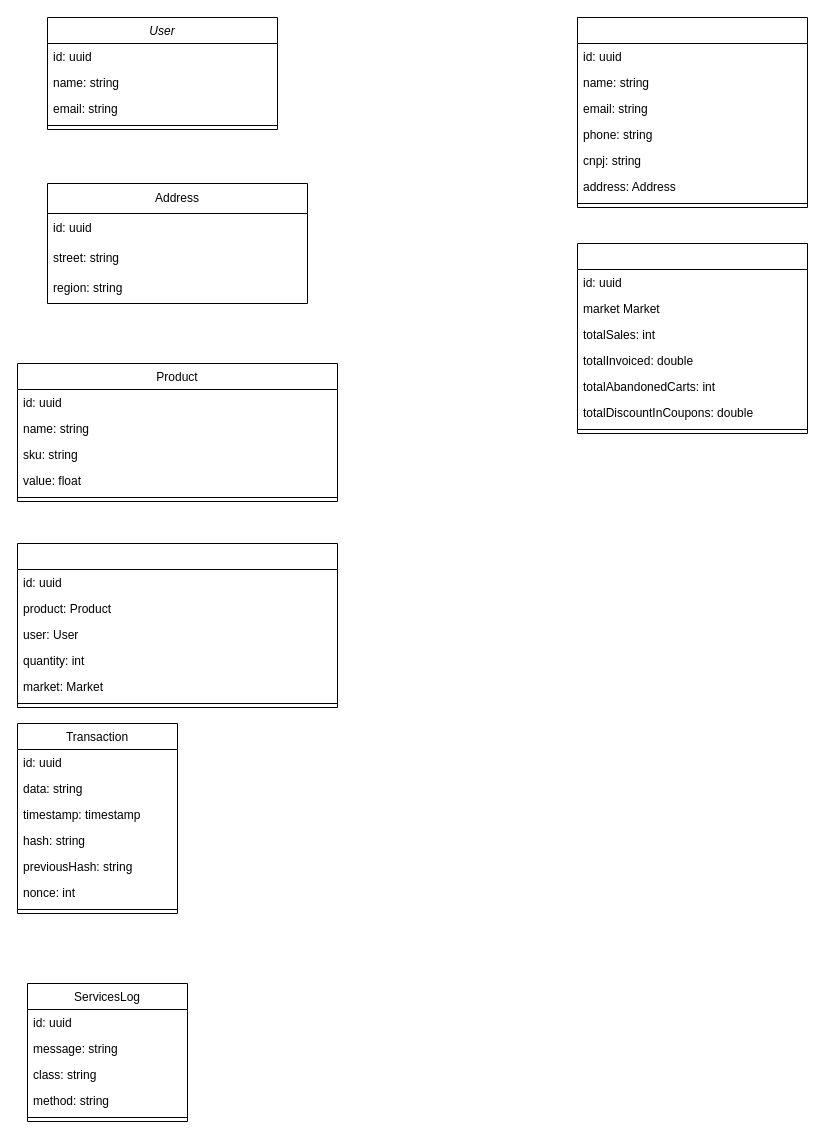
Some shapes in this 825 by 1139 pixel diagram are drawn without their labels. The box of each missing label's shape, as (x1, y1, x2, y2) in pixels:
Market: (576, 16, 808, 208)
MarketInsights: (576, 242, 808, 434)
Sale: (16, 542, 338, 708)
